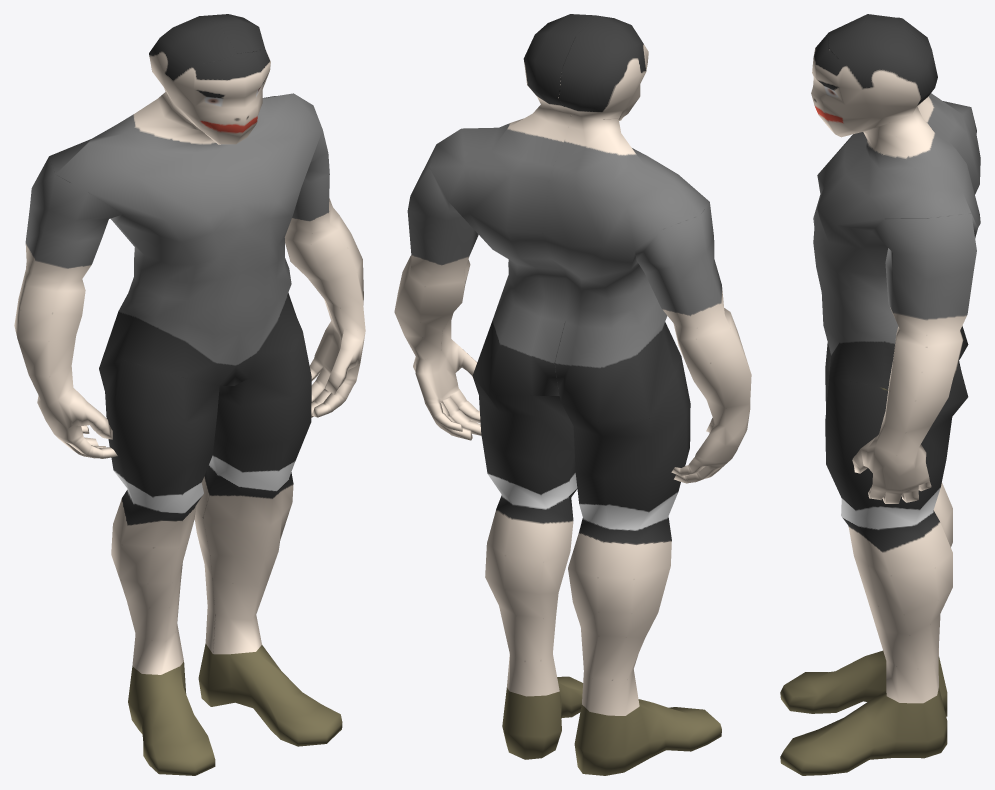
Rendered from testman1(1).fbx.
The picture shows the model from 3 angles, left to right: view 1: azimuth 30°, elevation 25°; view 2: azimuth 150°, elevation 25°; view 3: azimuth 270°, elevation 25°; orthographic projection. The views are drawn at different scales.
Visible parts, largest first — view 1: basemesh_male; view 2: basemesh_male; view 3: basemesh_male.
Boxes of the visible parts, left/top/right/bottom form: basemesh_male: left=14, top=14, right=365, bottom=775; basemesh_male: left=394, top=14, right=751, bottom=775; basemesh_male: left=780, top=14, right=980, bottom=775.
Size of the model in its own units: 3.13 by 6.1 by 1.56.
Materials: 1 (1 with a texture image).
